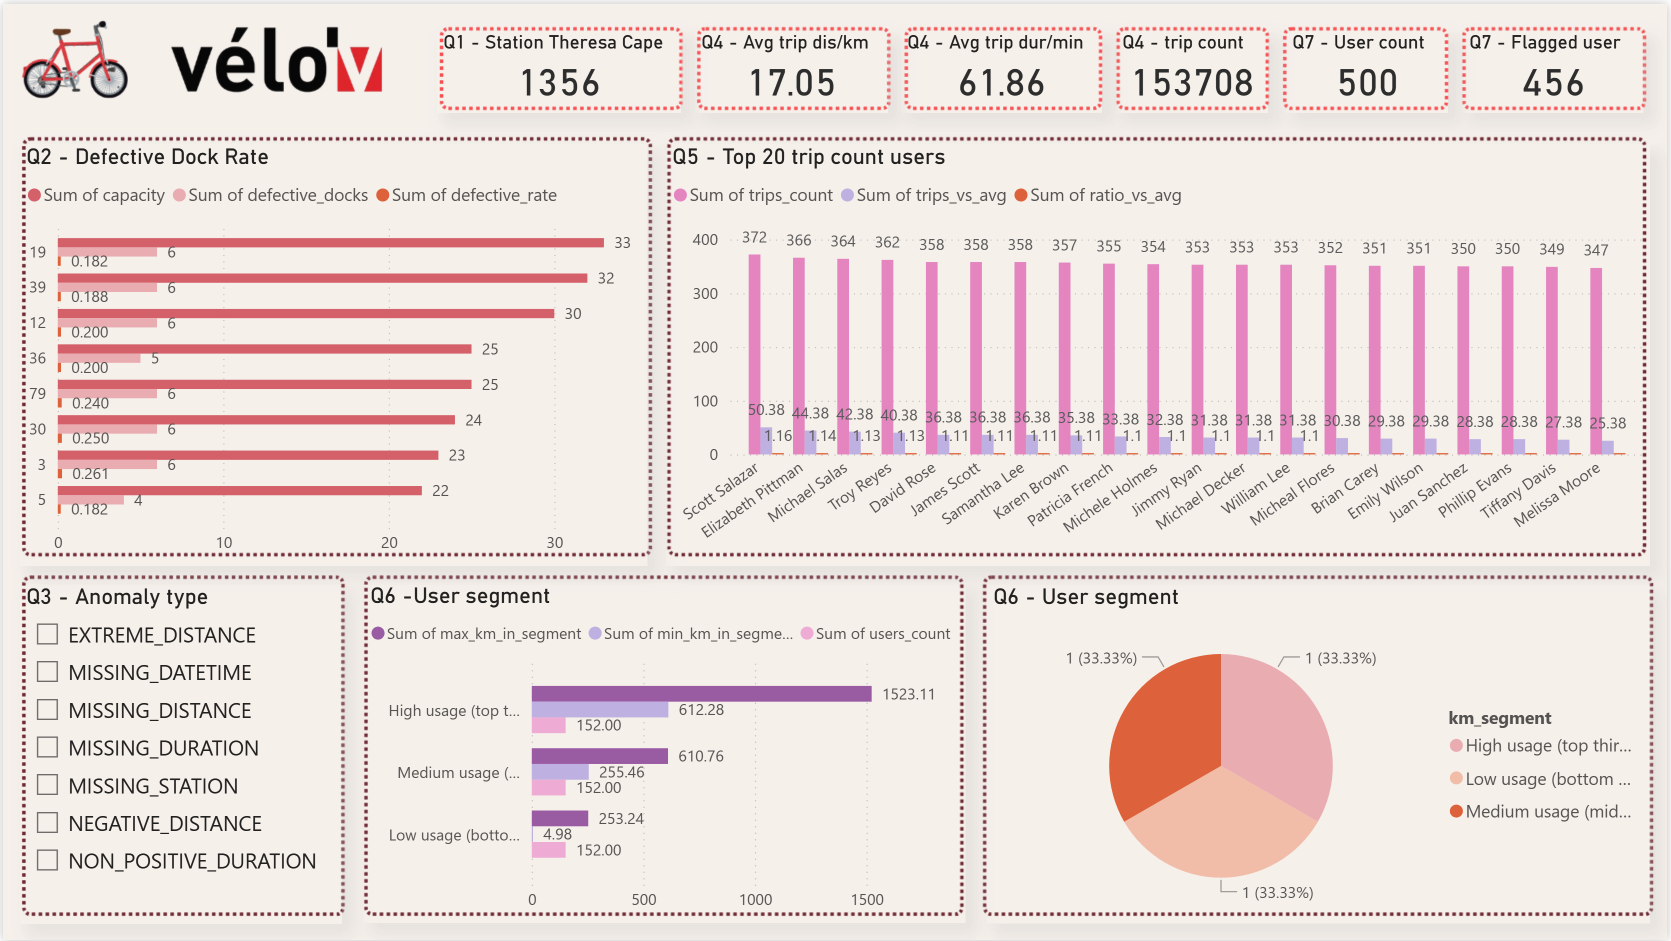

This screenshot's page, from the dashboard's own definition file:
{"tool":"powerbi","page":{"name":"Page 1","canvas":[1280,720],"ordinal":0},"visuals":[{"type":"advanceCardE03760C5AB684758B56AA29F9E6C257B","title":"Q1 - Station Theresa Cape","fields":{"mainMeasure":["q1.departures_last_12m"]},"box":[333.8,20.5,187.7,63.1],"z":0},{"type":"clusteredBarChart","title":"Q2 - Defective Dock Rate","fields":{"Y":["q2.capacity","q2.defective_docks","q2.defective_rate"],"Category":["q2.id"]},"box":[13.1,107.5,482.3,324.6],"z":1},{"type":"advanceCardE03760C5AB684758B56AA29F9E6C257B","title":"Q4 - Avg trip dis/km","fields":{"mainMeasure":["q4.avg_trip_distance_km"]},"box":[532.3,20.5,148.5,63.1],"z":2},{"type":"advanceCardE03760C5AB684758B56AA29F9E6C257B","title":"Q4 - Avg trip dur/min","fields":{"mainMeasure":["q4.avg_trip_duration_minutes"]},"box":[690.8,20.5,154.6,63.1],"z":3},{"type":"advanceCardE03760C5AB684758B56AA29F9E6C257B","title":"Q4 - trip count","fields":{"mainMeasure":["q4.valid_trip_count"]},"box":[856.2,20.5,116.9,63.1],"z":4},{"type":"clusteredColumnChart","title":"Q5 - Top 20 trip count users","fields":{"Category":["q5.full_name"],"Y":["q5.trips_count","q5.trips_vs_avg","q5.ratio_vs_avg"]},"box":[510,107.5,756.9,324.6],"z":5},{"type":"clusteredBarChart","title":"Q6 -User segment","fields":{"Category":["q6.km_segment"],"Y":["q6.max_km_in_segment","q6.min_km_in_segment","q6.users_count"]},"box":[277.7,445.2,462.3,261.5],"z":6},{"type":"pieChart","title":"Q6 - User segment ","fields":{"Y":["q6.users_count"],"Category":["q6.km_segment"]},"box":[756.9,445.9,510,260.8],"z":7},{"type":"slicer","title":"Q3 - Anomaly type","fields":{"Values":["q3.anomaly_type"]},"box":[13.1,445.9,247.7,261.5],"z":8},{"type":"advanceCardE03760C5AB684758B56AA29F9E6C257B","title":"Q7 - User count","fields":{"mainMeasure":["q1.Total User"]},"box":[986.9,20.5,124.6,63.1],"z":9},{"type":"advanceCardE03760C5AB684758B56AA29F9E6C257B","title":"Q7 - Flagged user","fields":{"mainMeasure":["q7.user_id"]},"box":[1123.1,20.5,139.2,63.1],"z":10}]}

Visuals, with their boxes in screenshot pixels (x1, y1, x2, y2), scaled from the page's 1280x720 canvas onto the 1671x941 screenshot:
"Q1 - Station Theresa Cape" advanceCardE03760C5AB684758B56AA29F9E6C257B: bbox(436, 27, 681, 109)
"Q2 - Defective Dock Rate" clusteredBarChart: bbox(17, 140, 647, 565)
"Q4 - Avg trip dis/km" advanceCardE03760C5AB684758B56AA29F9E6C257B: bbox(695, 27, 889, 109)
"Q4 - Avg trip dur/min" advanceCardE03760C5AB684758B56AA29F9E6C257B: bbox(902, 27, 1104, 109)
"Q4 - trip count" advanceCardE03760C5AB684758B56AA29F9E6C257B: bbox(1118, 27, 1270, 109)
"Q5 - Top 20 trip count users" clusteredColumnChart: bbox(666, 140, 1654, 565)
"Q6 -User segment" clusteredBarChart: bbox(363, 582, 966, 924)
"Q6 - User segment " pieChart: bbox(988, 583, 1654, 924)
"Q3 - Anomaly type" slicer: bbox(17, 583, 340, 925)
"Q7 - User count" advanceCardE03760C5AB684758B56AA29F9E6C257B: bbox(1288, 27, 1451, 109)
"Q7 - Flagged user" advanceCardE03760C5AB684758B56AA29F9E6C257B: bbox(1466, 27, 1648, 109)
